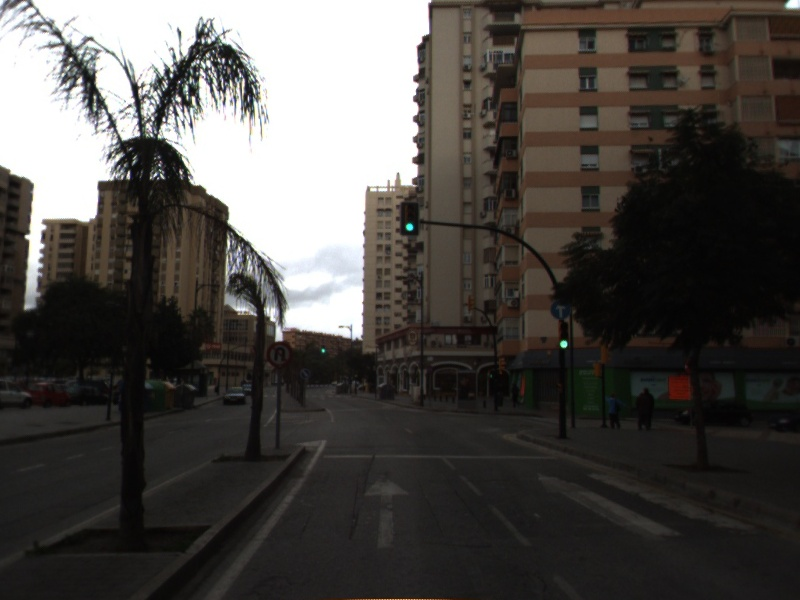STRAIGHT: (361, 470, 412, 551)
